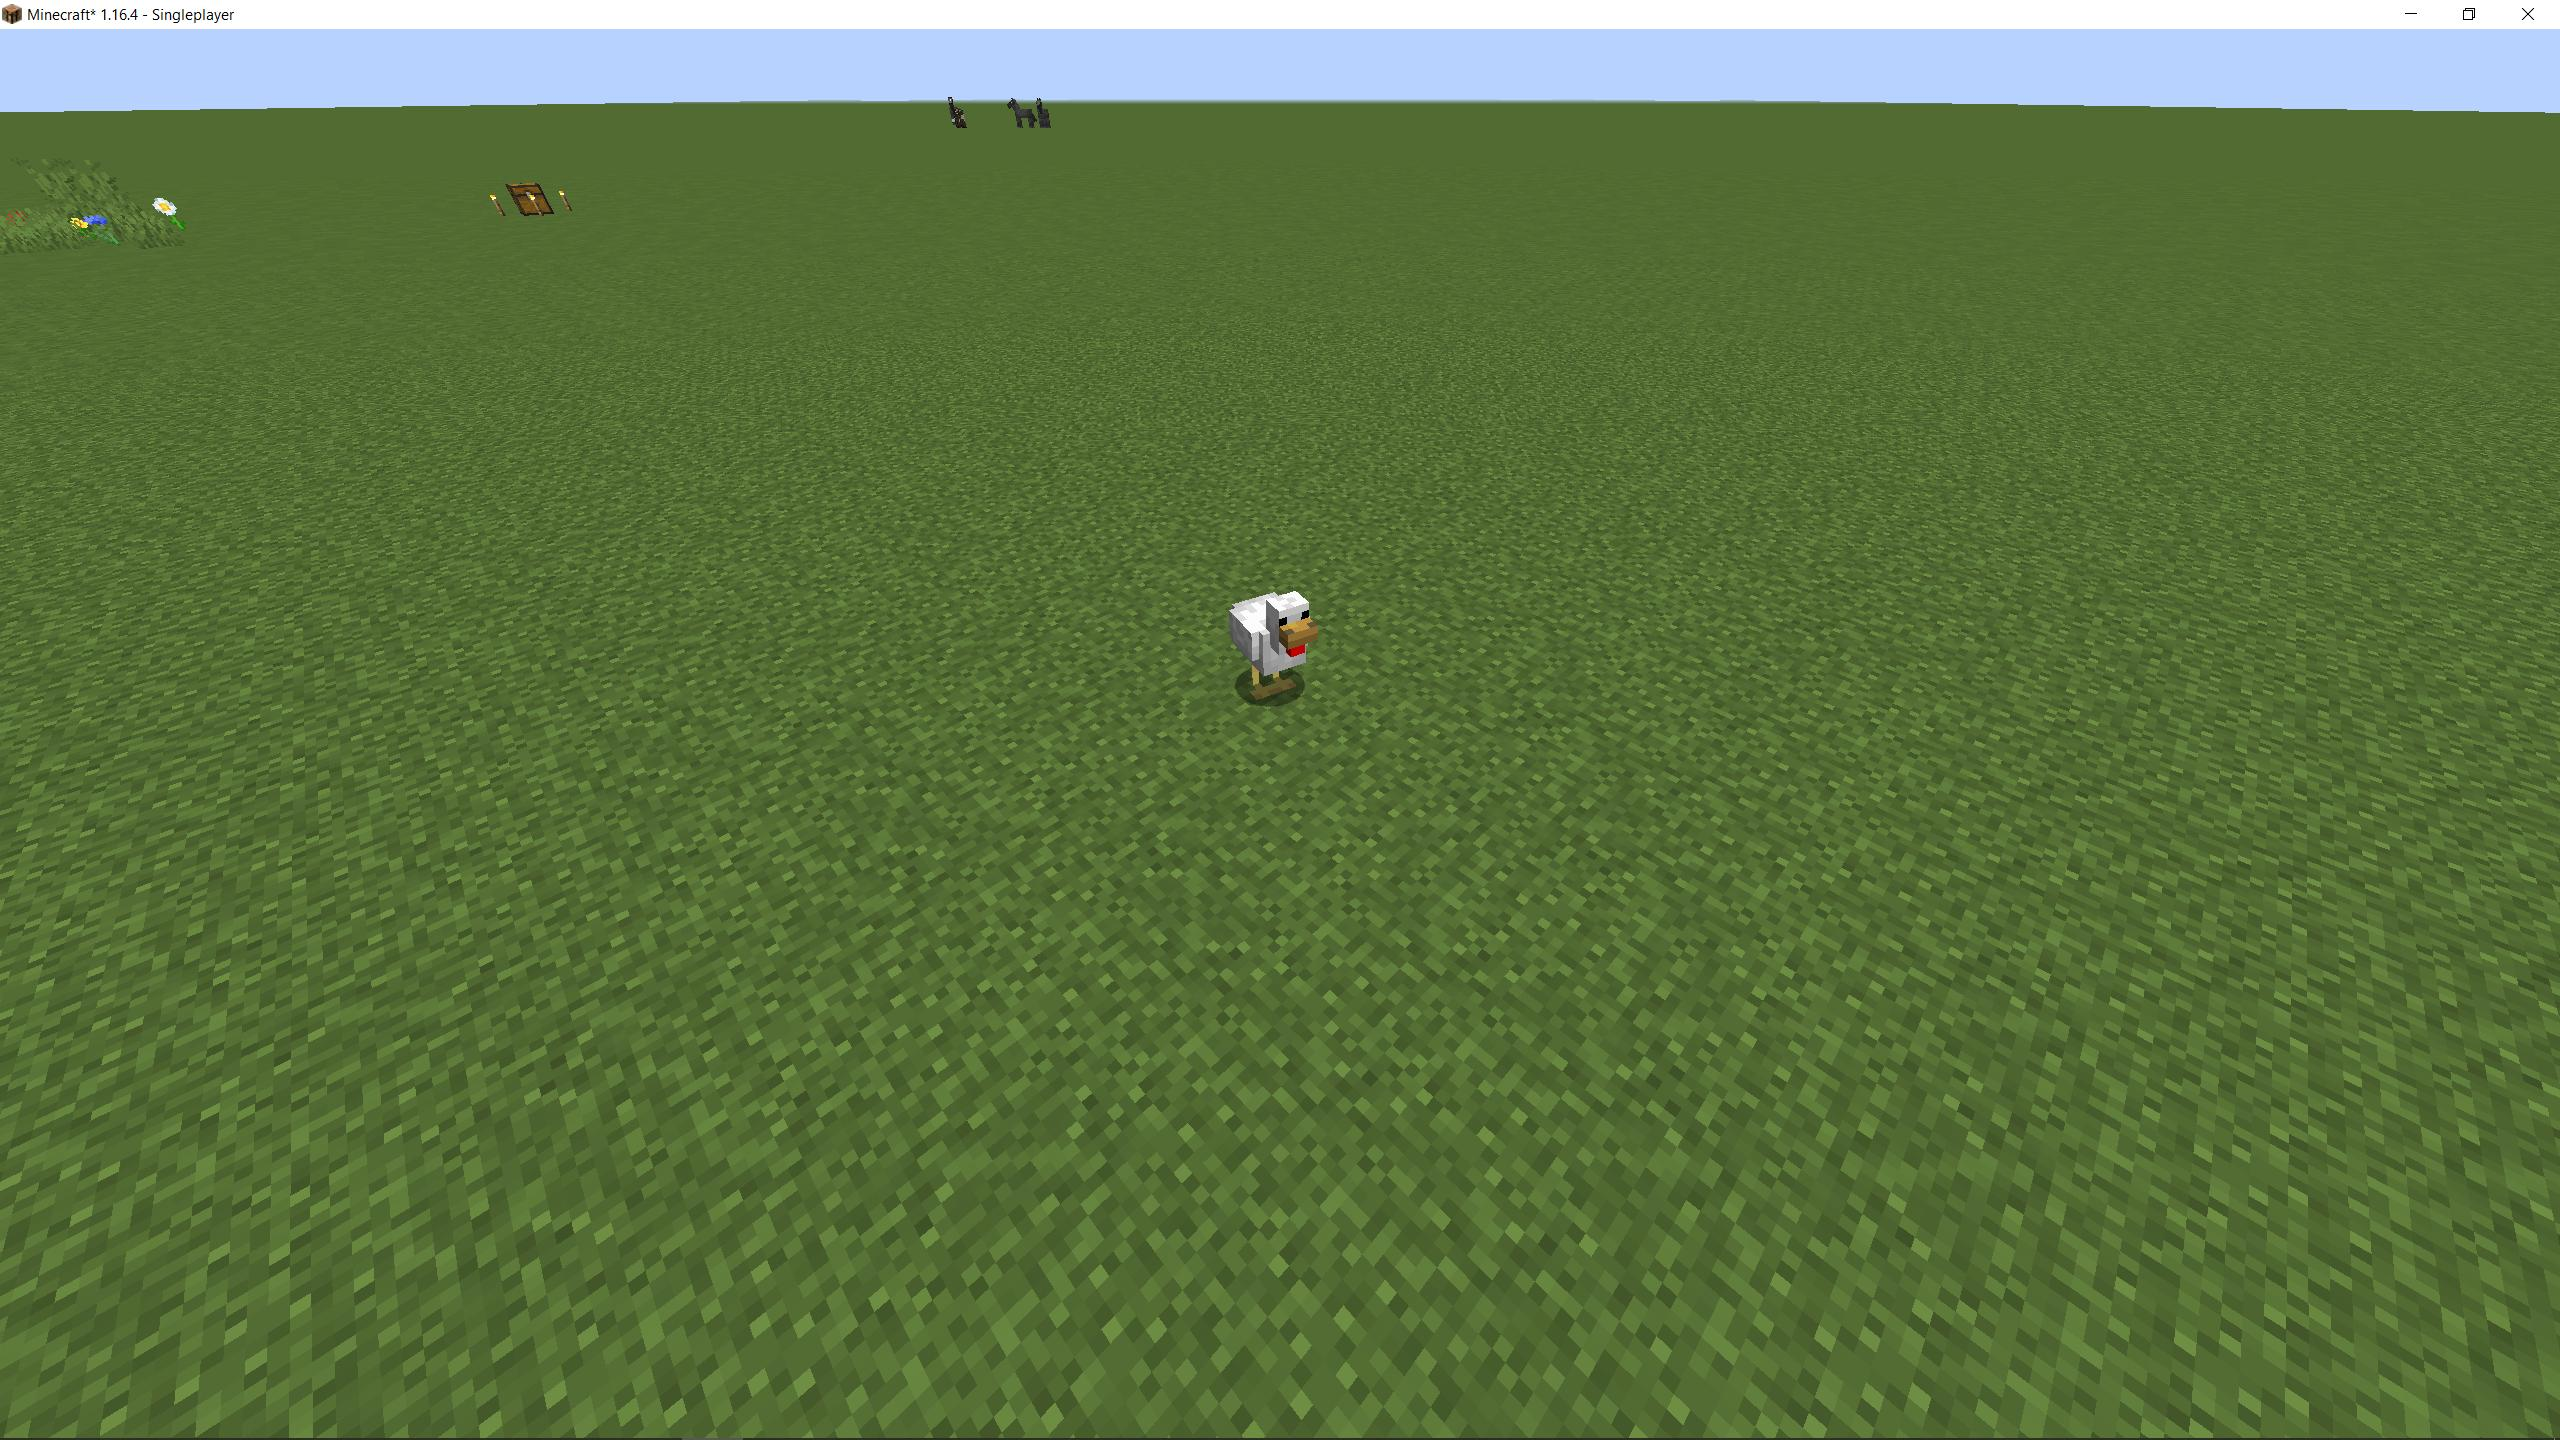chicken: (1225, 587, 1320, 705)
